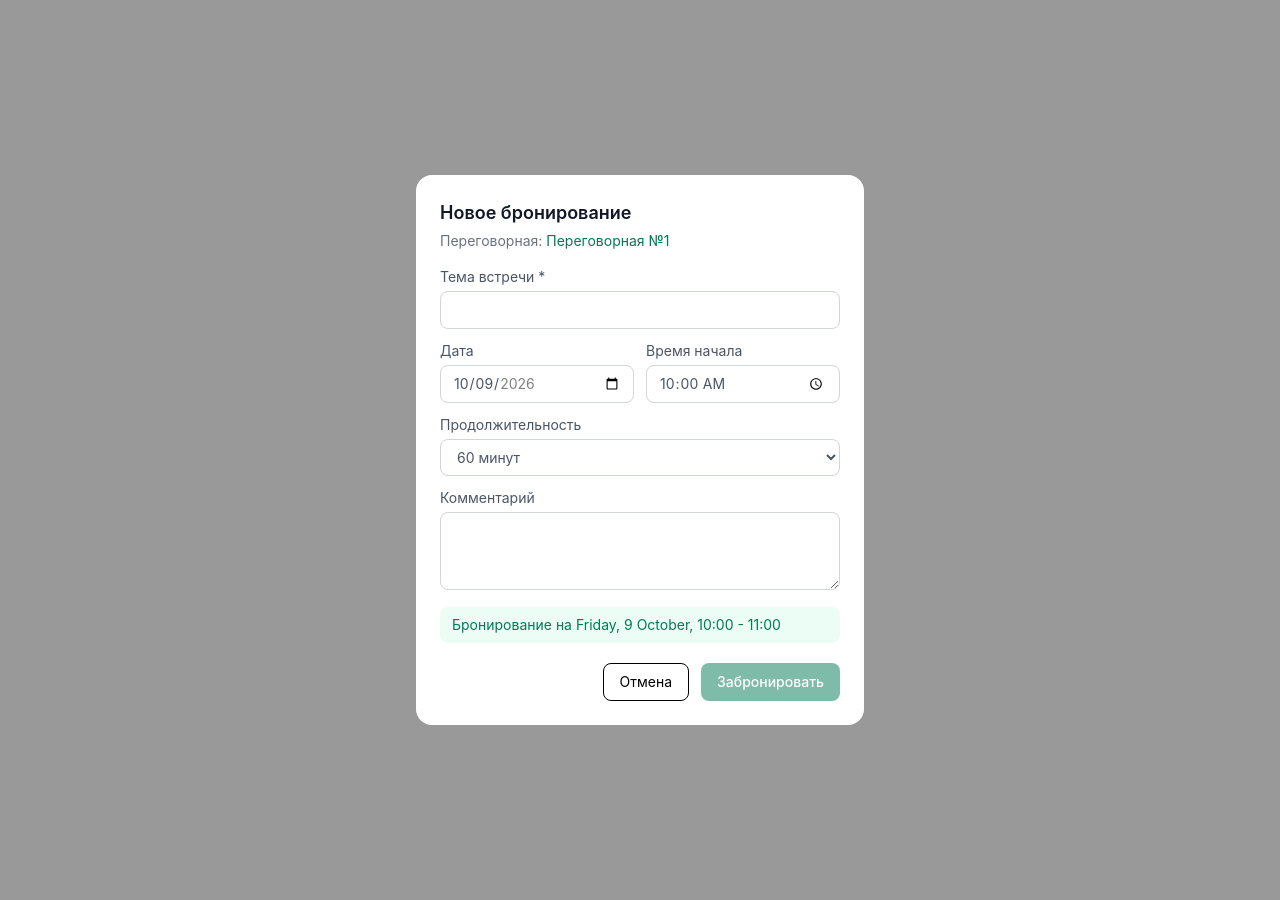
Test: BookingModal › показывает сообщение о конфликте при 409
In the field labelled "Тема встречи *": (640, 310) [440,291,840,329], type "Встреча"
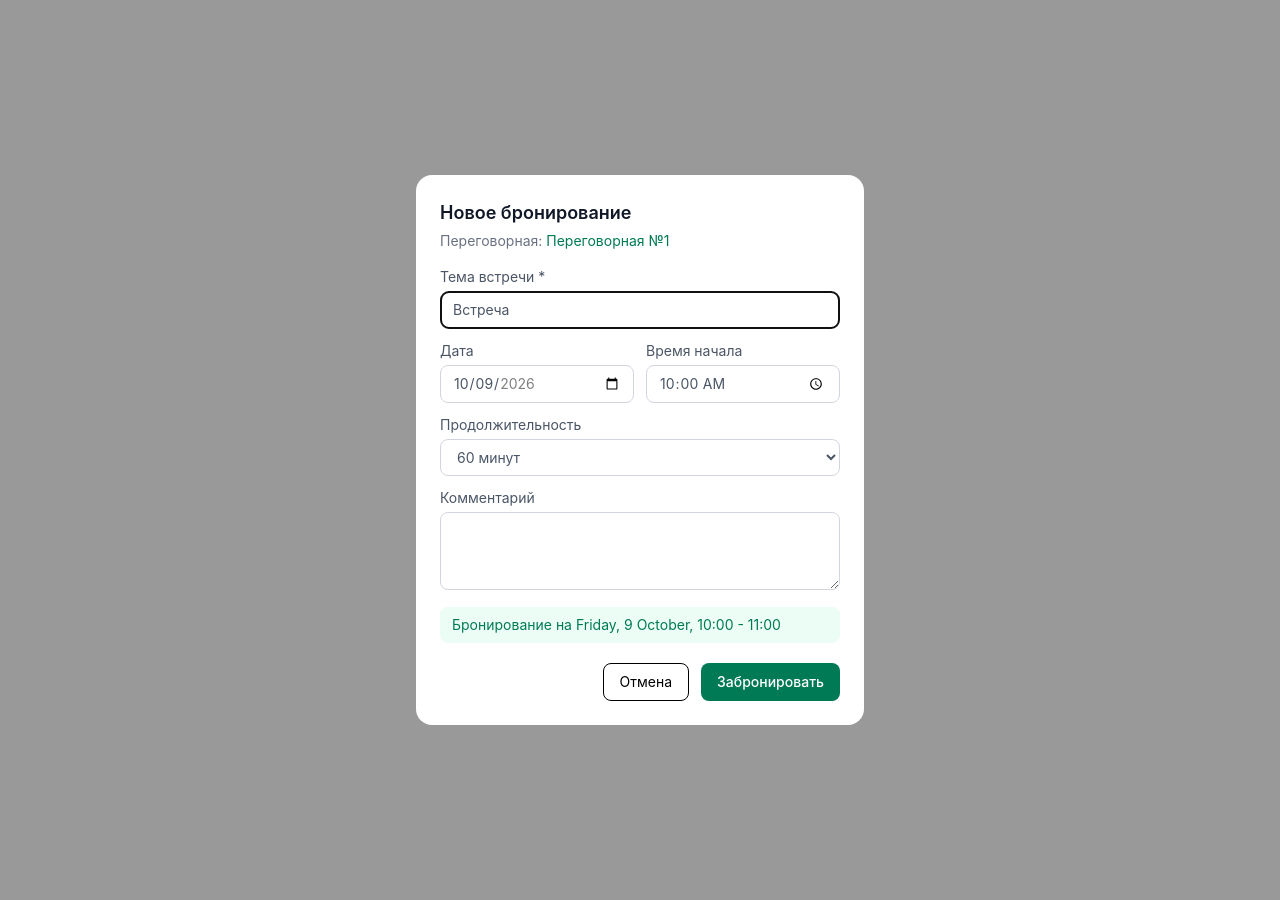
Click the button "Забронировать": (771, 682) [701,663,840,701]
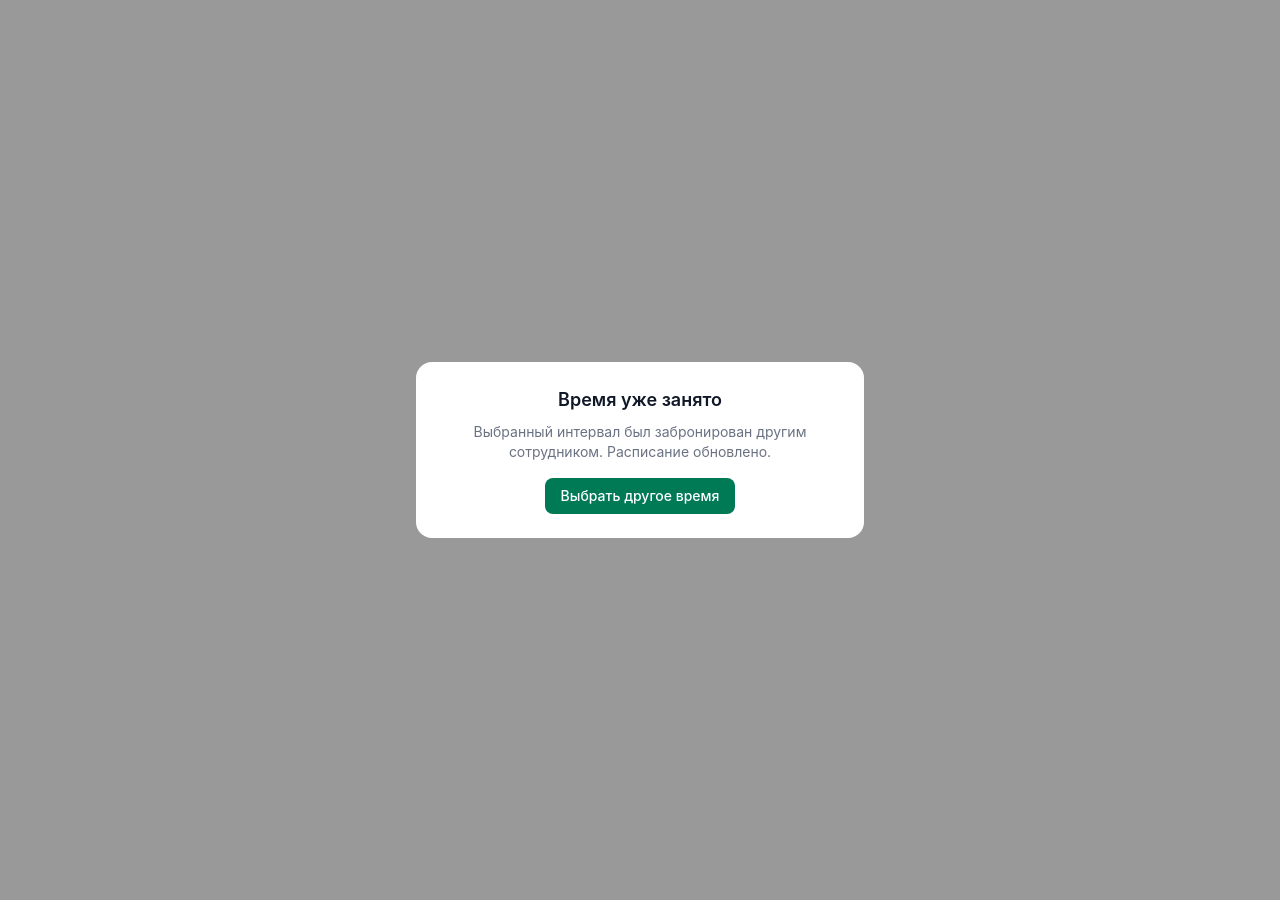
Expected: the heading "Время уже занято" is shown, [558,389,722,410]
Expected: the text "Выбранный интервал был забронирован другим сотрудником" is shown, [474,423,806,460]
